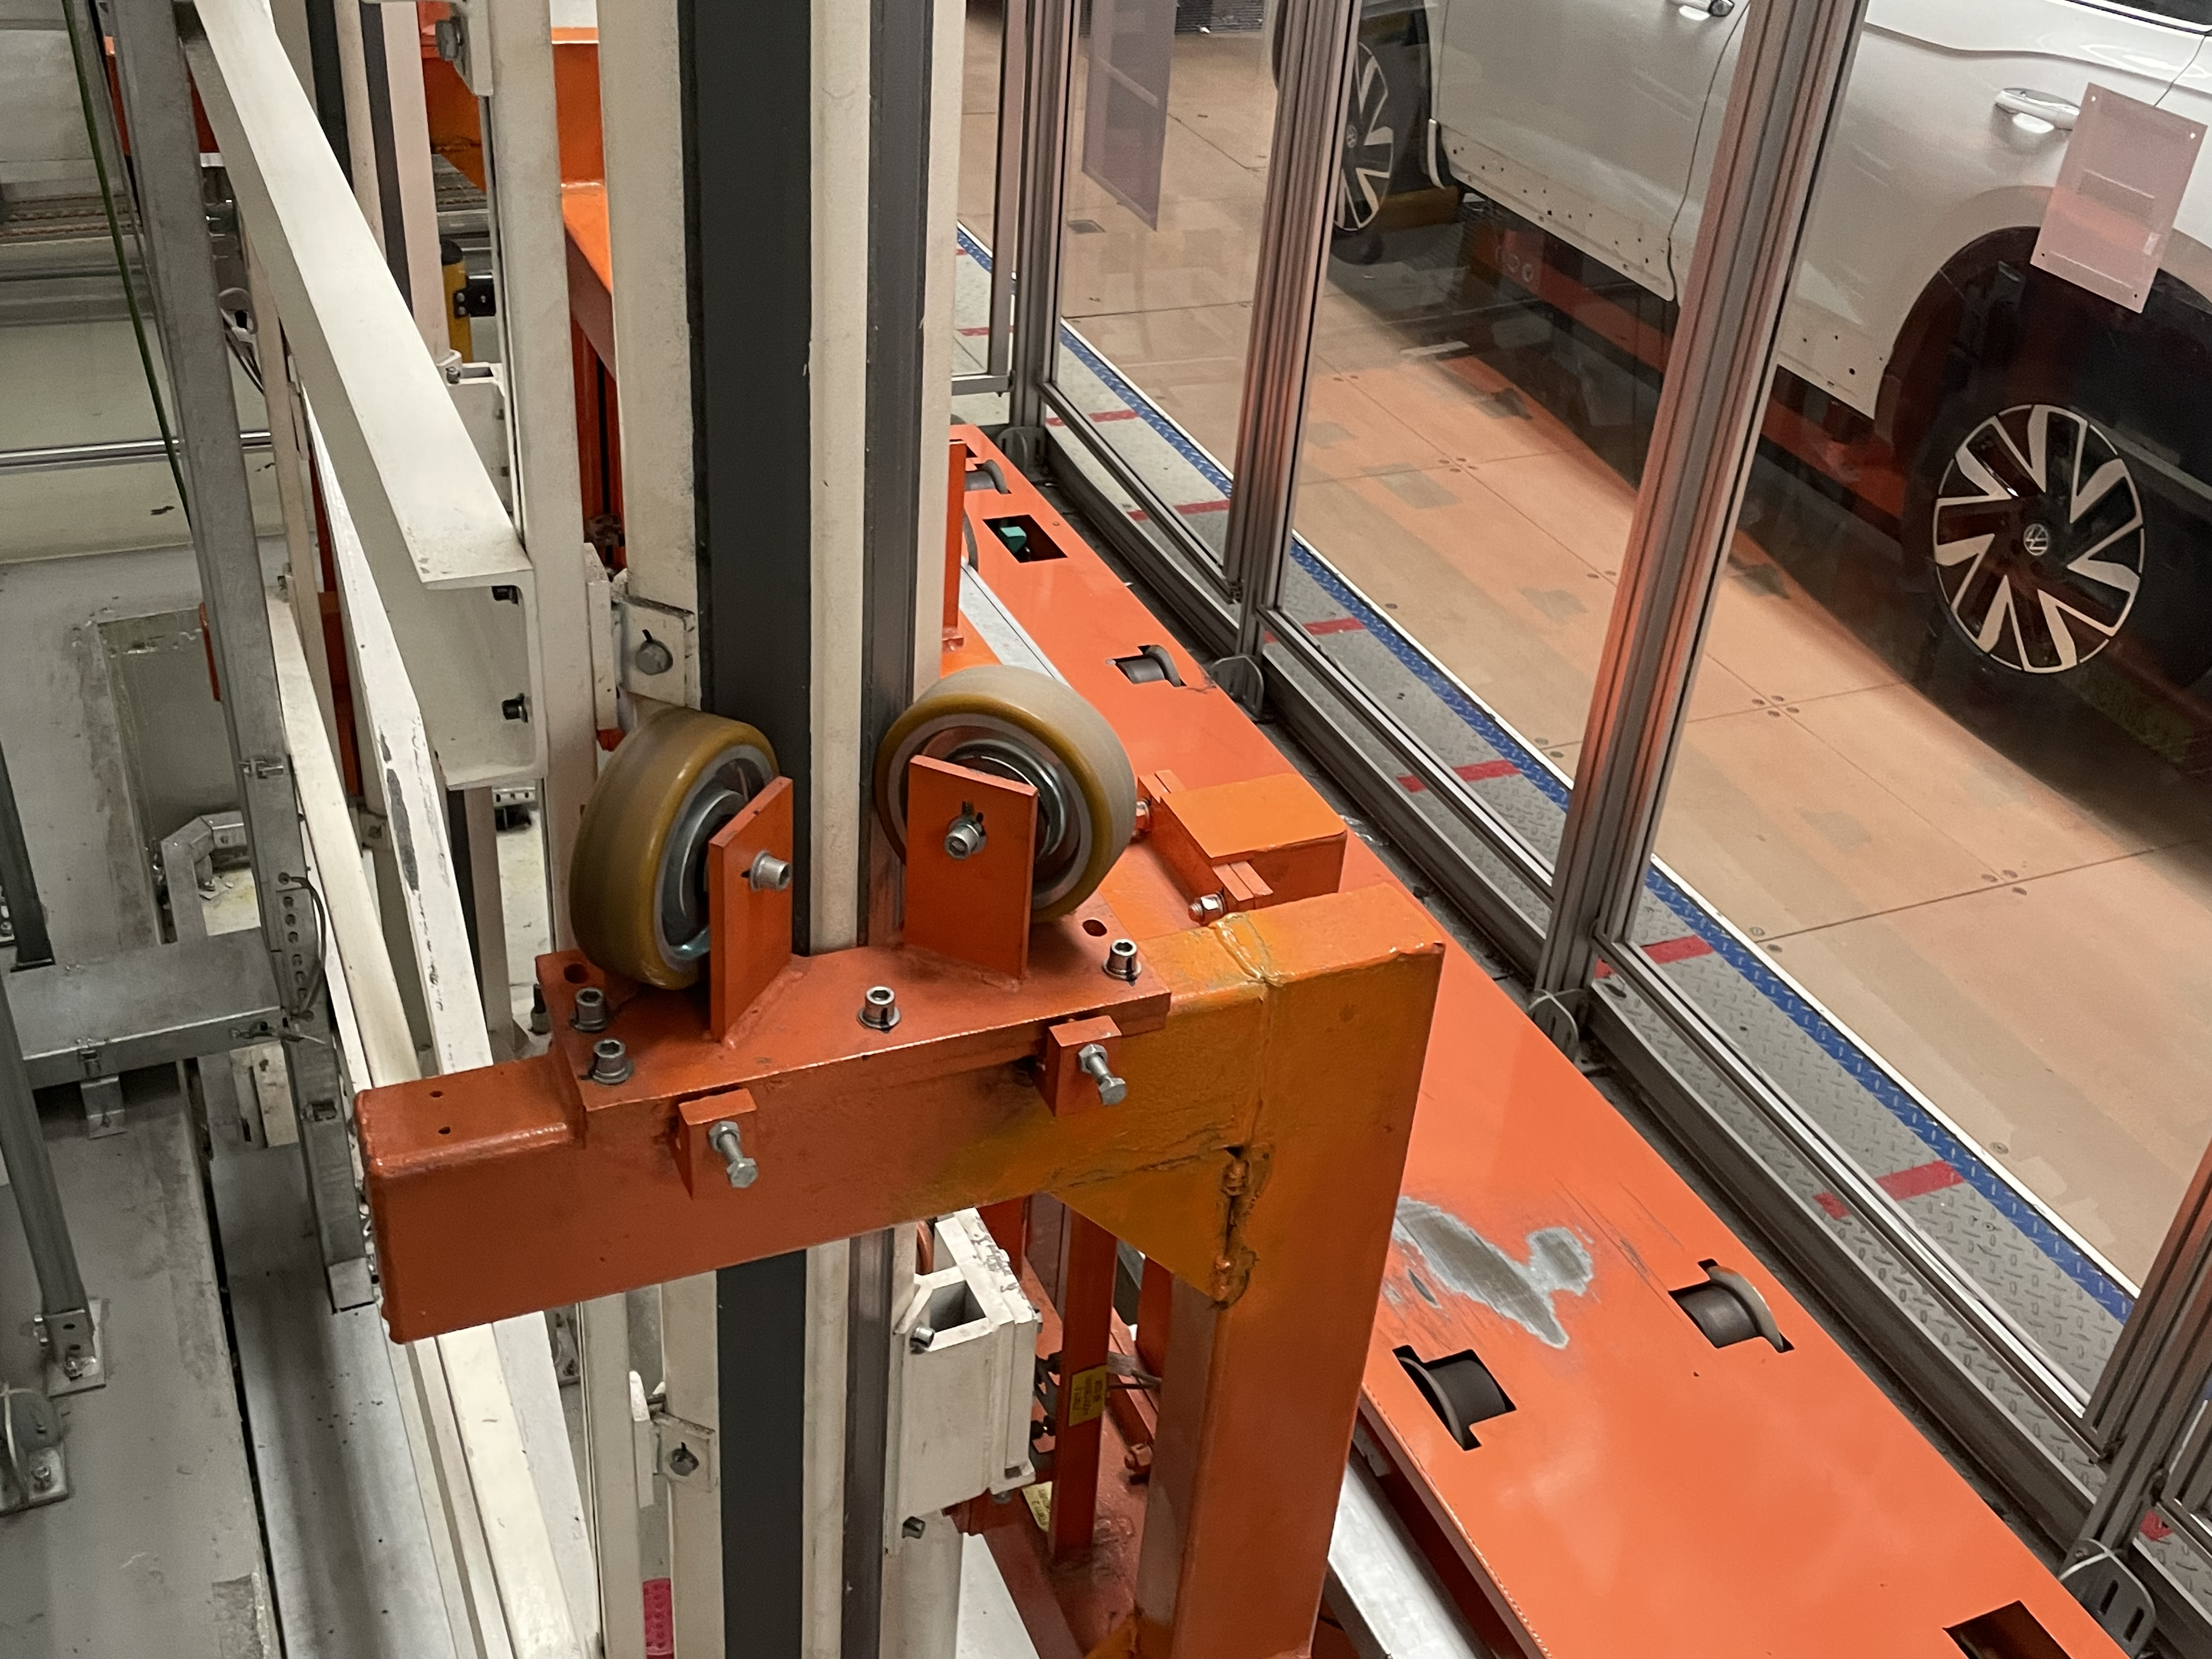good_wheel: (538, 680, 812, 1009), (850, 633, 1150, 908)
